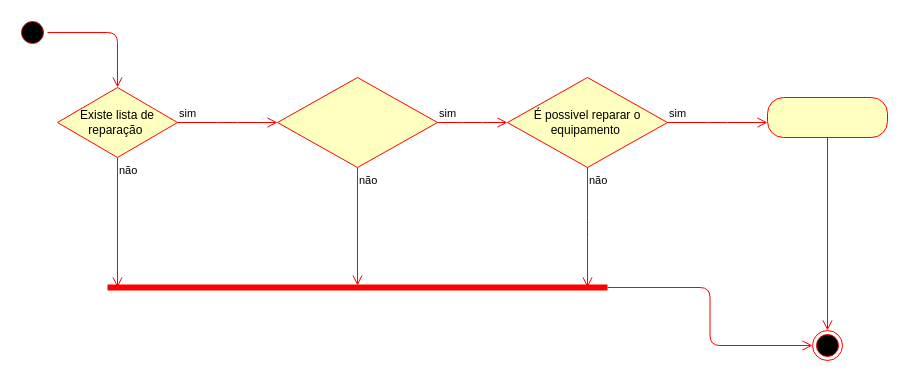
Some shapes in this 905 by 378 pixel diagram are drawn without their labels. Each missing label, with the box of its shape:
Existe empresas de reparação: (276, 76, 438, 168)
Procurar empresas de reparação: (766, 96, 888, 138)
